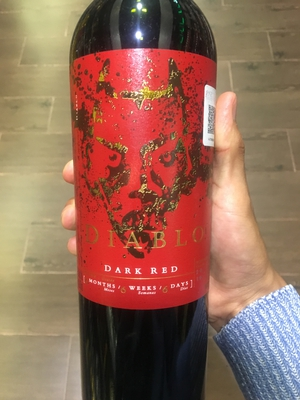diablo dark red: (63, 22, 222, 400)
